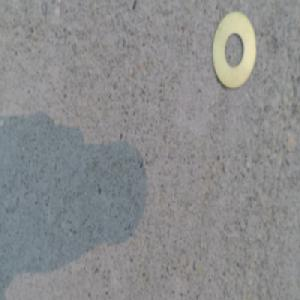Washer: (207, 24, 254, 93)
